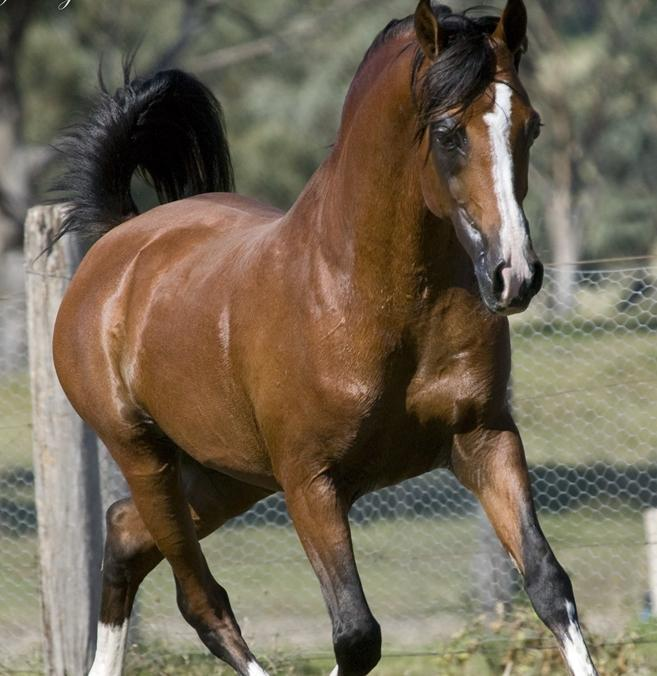horse: (25, 0, 602, 676)
